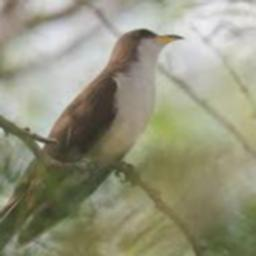Cuckoo: (0, 30, 185, 256)
